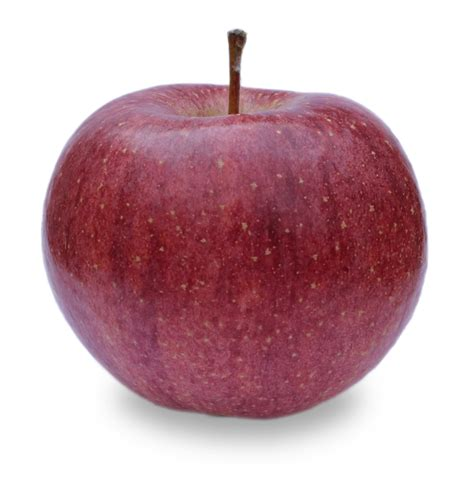apple: (38, 75, 432, 424)
